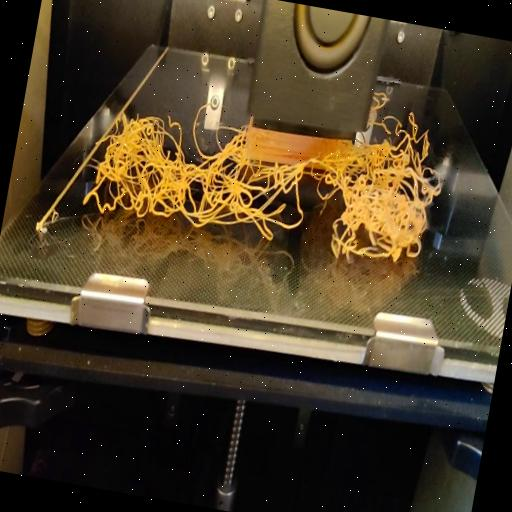spaghetti: (80, 98, 440, 276), (363, 86, 439, 156), (193, 100, 216, 120)
